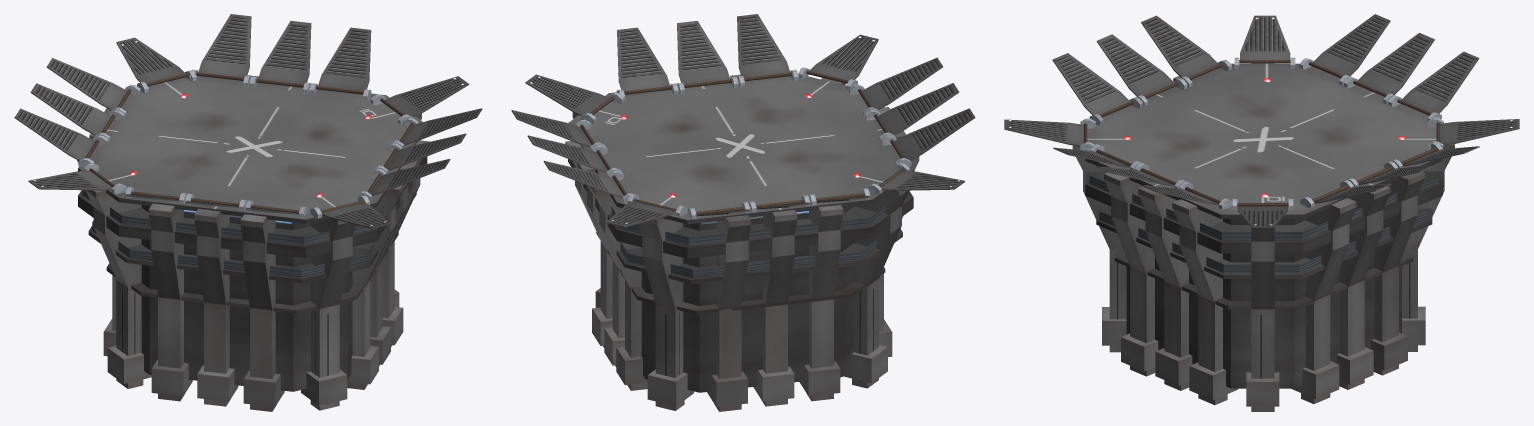
The model's file is LandingTower.fbx.
The picture shows the model from 3 angles, left to right: view 1: azimuth 30°, elevation 25°; view 2: azimuth 150°, elevation 25°; view 3: azimuth 270°, elevation 25°; orthographic projection.
Visible parts, largest first — view 1: TowerPad, Pillars, Panels; view 2: TowerPad, Pillars, Panels; view 3: TowerPad, Pillars, Panels.
Part boxes in pixels (x1=…): TowerPad: x1=78, y1=69, x2=427, y2=391; Pillars: x1=77, y1=75, x2=429, y2=411; Panels: x1=14, y1=14, x2=482, y2=228; TowerPad: x1=568, y1=67, x2=913, y2=392; Pillars: x1=565, y1=74, x2=919, y2=411; Panels: x1=511, y1=14, x2=975, y2=227; TowerPad: x1=1080, y1=57, x2=1443, y2=388; Pillars: x1=1072, y1=63, x2=1454, y2=411; Panels: x1=1004, y1=14, x2=1519, y2=227.
Size of the model in its own units: 13.02 by 6.96 by 13.38.
